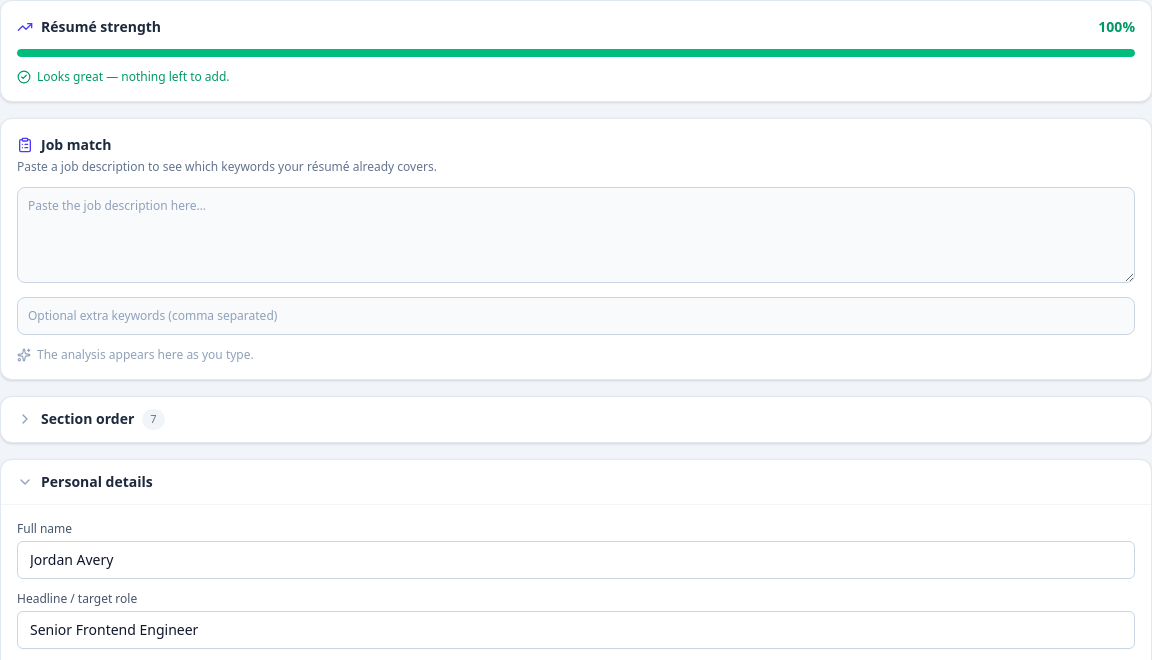
Test case: EditorPanel › exposes draggable section handles when expanded
Click the text "Section order".
click(88, 419)  # box [41,409,134,429]
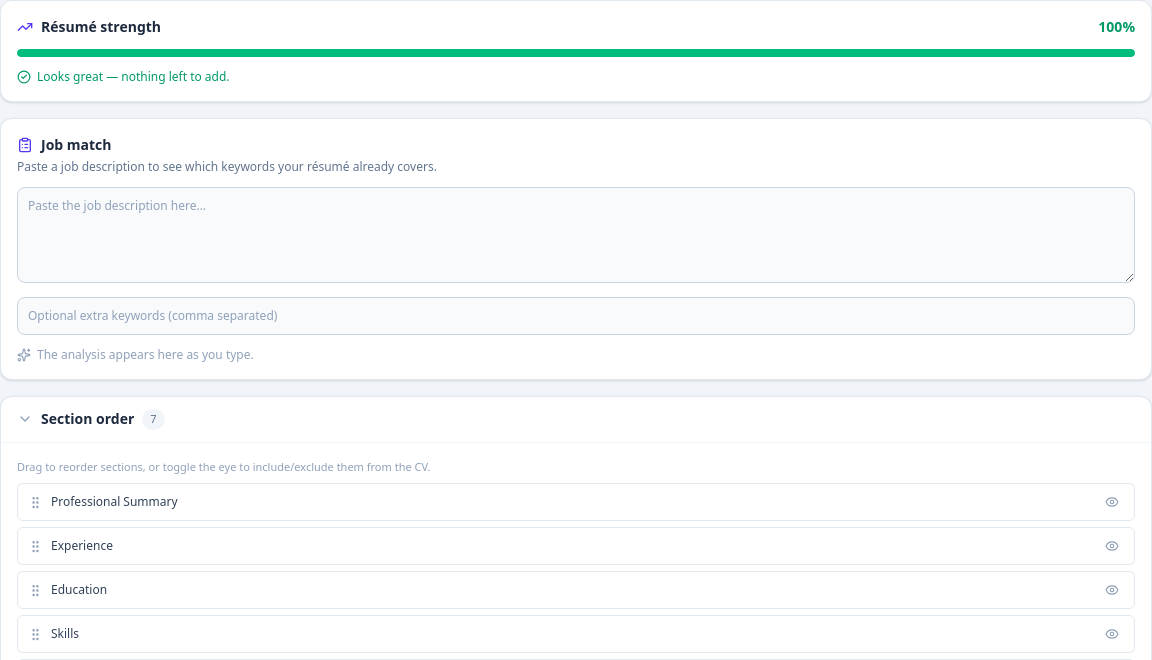
Result: the button named "Reorder Professional Summary" is shown at [28,494,43,510]
Result: the button named "Reorder Experience" is shown at [28,538,43,554]
